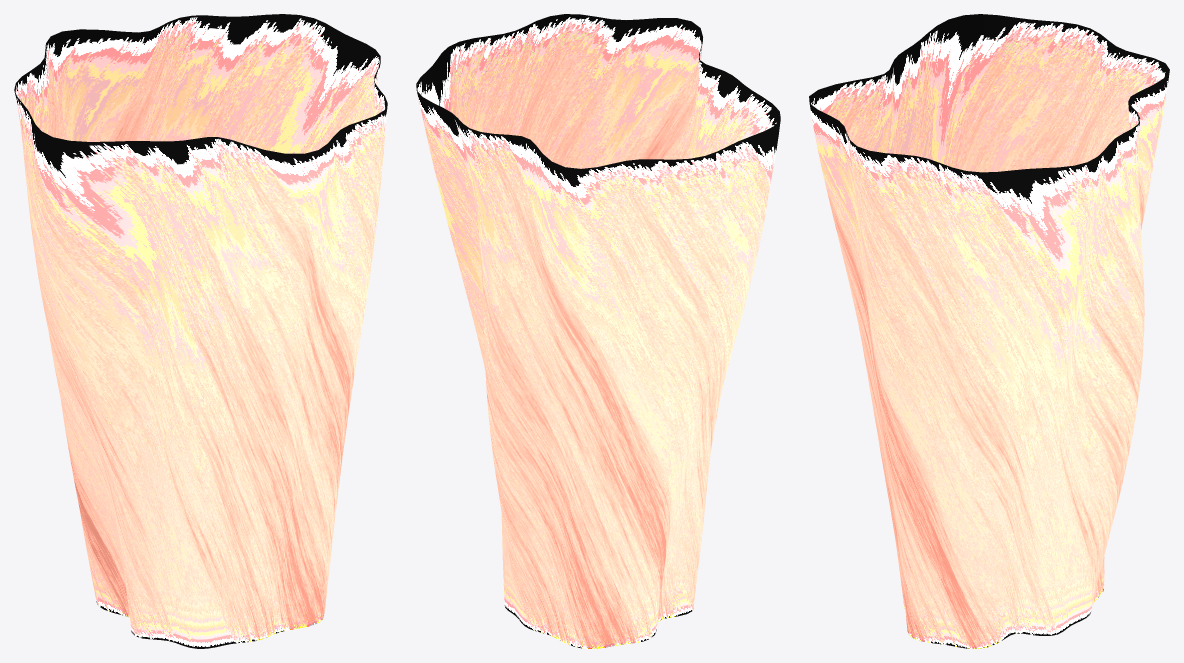
Rendered from clear_devil_outer_2.glb.
The picture shows the model from 3 angles, left to right: view 1: azimuth 30°, elevation 25°; view 2: azimuth 150°, elevation 25°; view 3: azimuth 270°, elevation 25°; orthographic projection. The views are drawn at different scales.
Parts seen in each view (by area): view 1: devil_outer_2; view 2: devil_outer_2; view 3: devil_outer_2.
Boxes of the visible parts, x1,y1,x2,y2 form: devil_outer_2: (14, 14, 387, 648); devil_outer_2: (416, 14, 780, 648); devil_outer_2: (809, 14, 1169, 648).
Size of the model in its own units: 14.98 by 22.4 by 14.42.
Materials: 1 (1 with a texture image).
